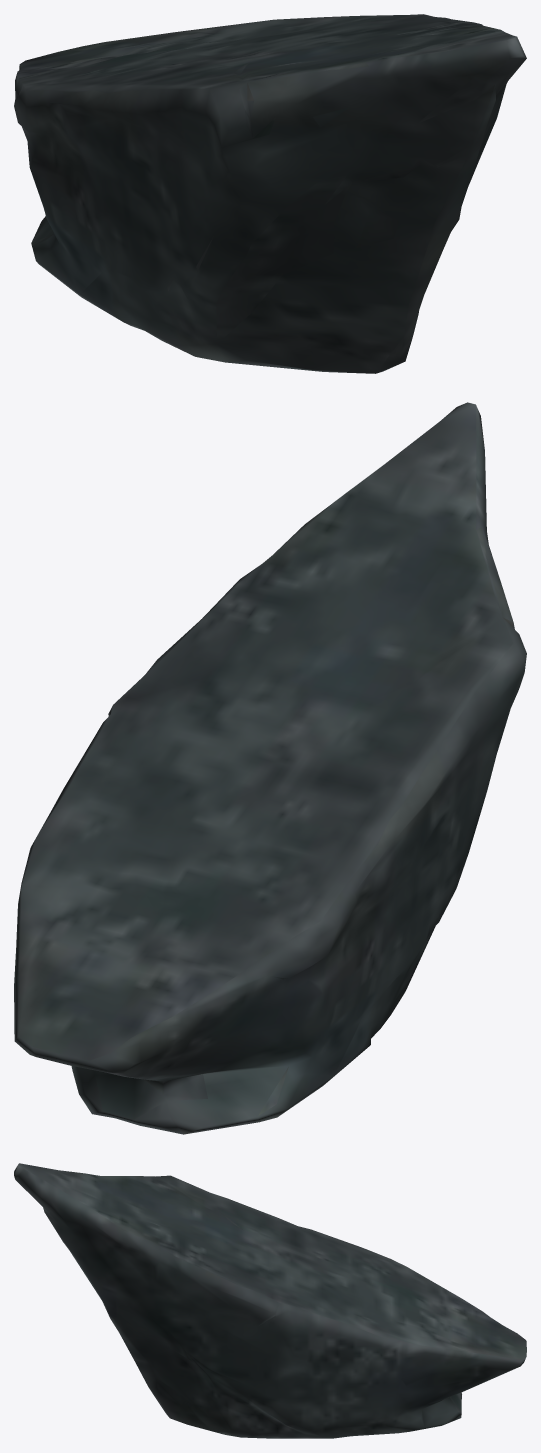
The picture shows the model from 3 angles, top to bottom: view 1: azimuth 30°, elevation 25°; view 2: azimuth 150°, elevation 25°; view 3: azimuth 270°, elevation 25°; orthographic projection. The views are drawn at different scales.
Parts seen in each view (by area): view 1: SM_US_VolcRock_01_v3_LOD0; view 2: SM_US_VolcRock_01_v3_LOD0; view 3: SM_US_VolcRock_01_v3_LOD0.
Part boxes in pixels (left/top/right/bottom): SM_US_VolcRock_01_v3_LOD0: left=14, top=14, right=526, bottom=373; SM_US_VolcRock_01_v3_LOD0: left=14, top=402, right=526, bottom=1134; SM_US_VolcRock_01_v3_LOD0: left=14, top=1163, right=526, bottom=1438.
Size of the model in its own units: 0.8906 by 1.15 by 2.09.
Materials: 1 (1 with a texture image).
